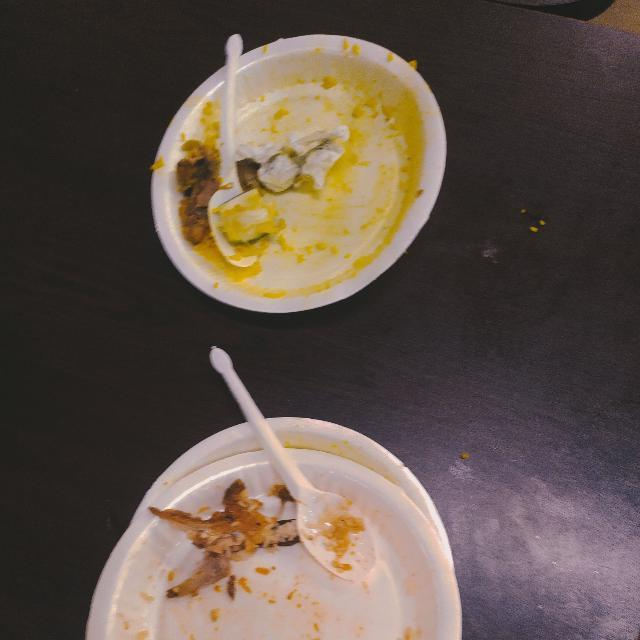kitchen paper: (244, 120, 356, 200)
